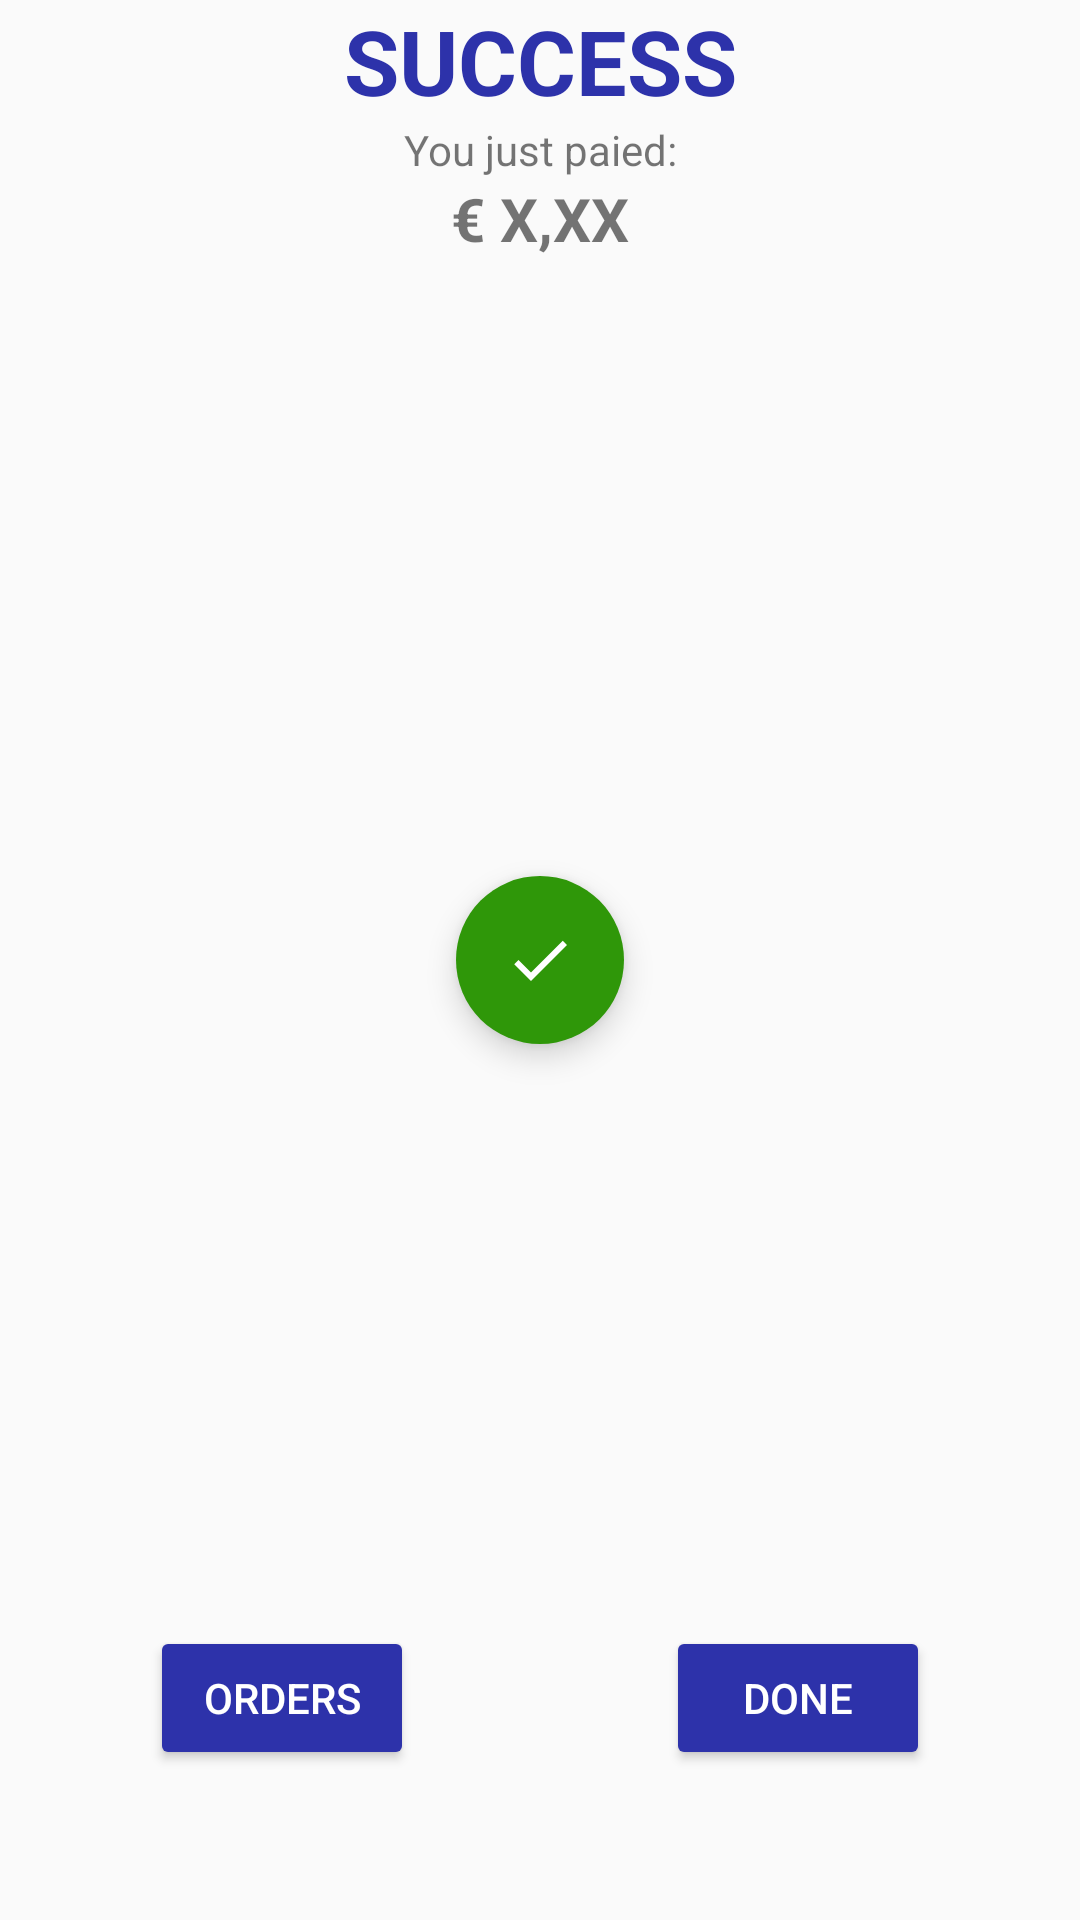

Point at icon controls on the screen. Image size 1080w x 1920h, points as point (x, y).
check: point (540, 960)
